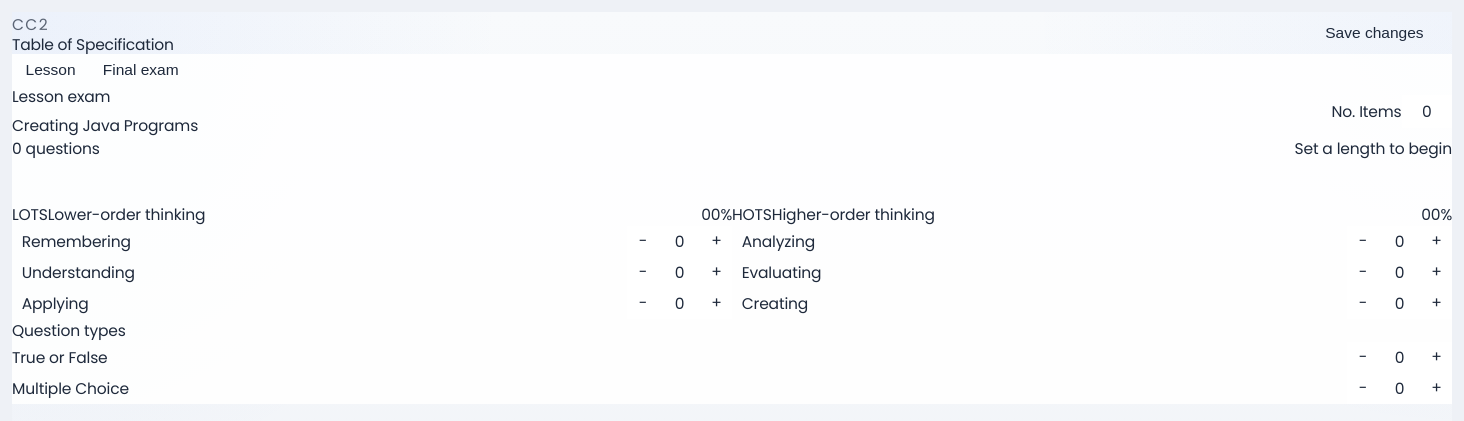
Test: No. Items › keeps the number typed on a lesson with no levels yet
The image size is (1464, 421).
Step 1. Replace the text in the field labelled "No. Items" with "10" → (1427, 111), box [1402,95,1452,128]
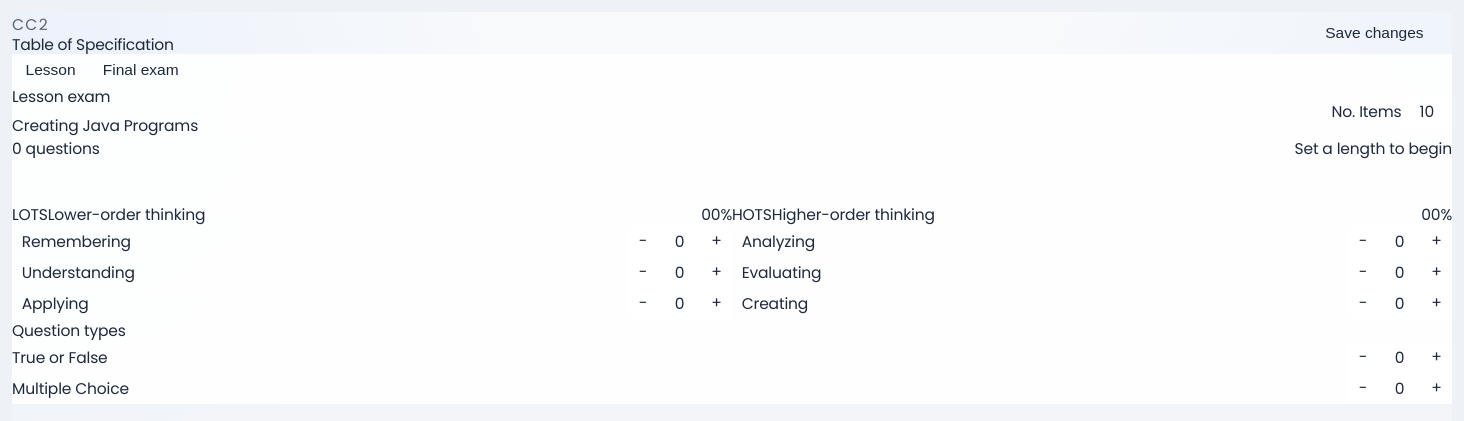
Step 2. Leave the field labelled "No. Items", box [1402,95,1452,128]
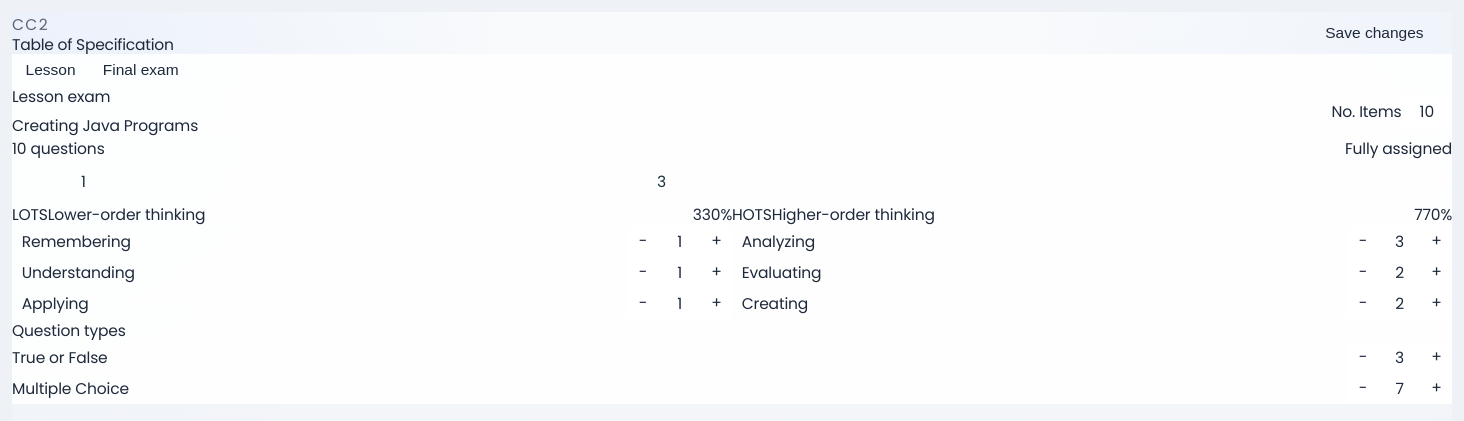
Result: the field named "True or False" holds "3" at [1378,346,1421,369]
Result: the field named "Multiple Choice" holds "7" at [1378,377,1421,400]
